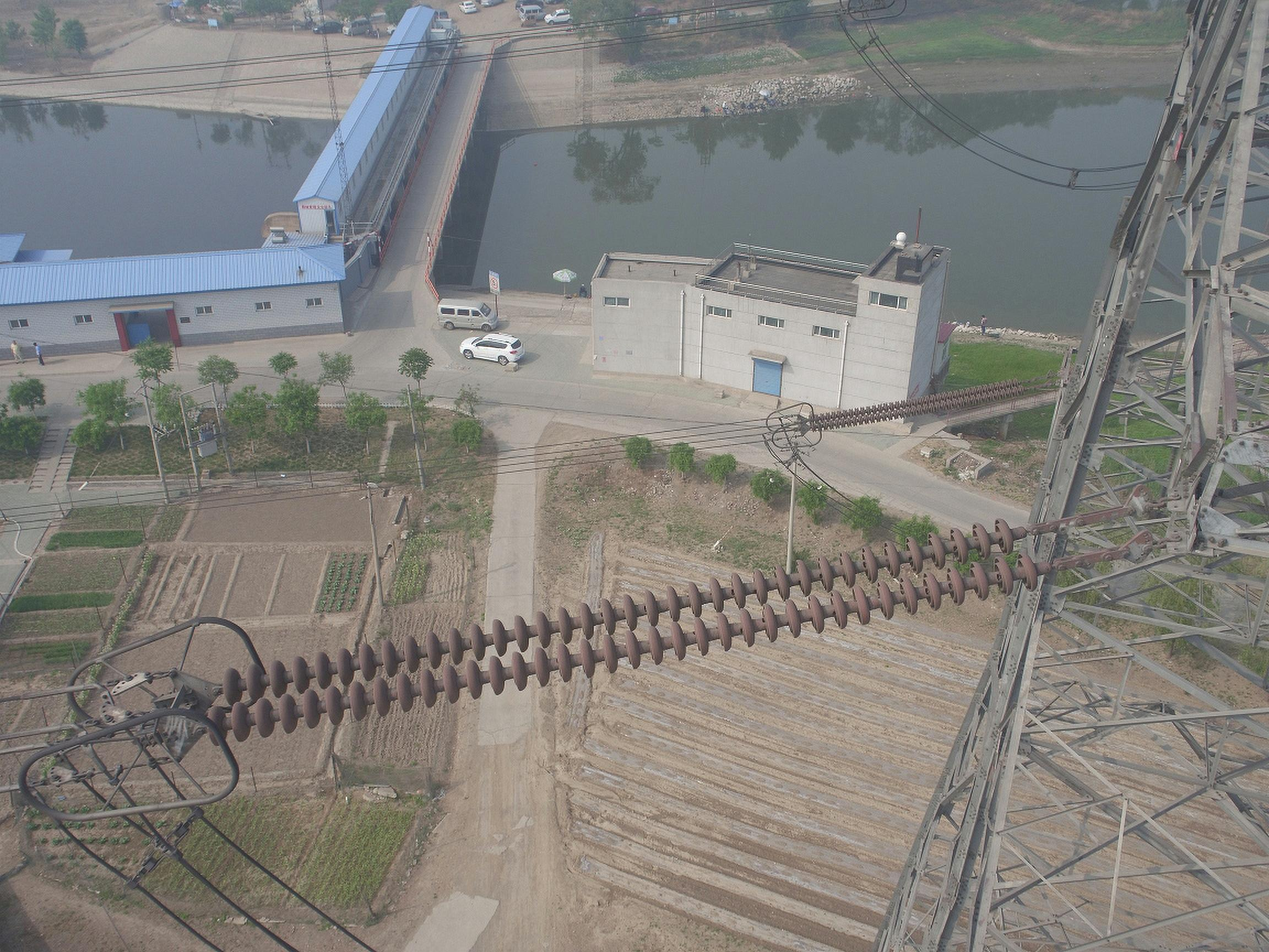insulator: (204, 515, 1040, 749), (806, 376, 1027, 434)
